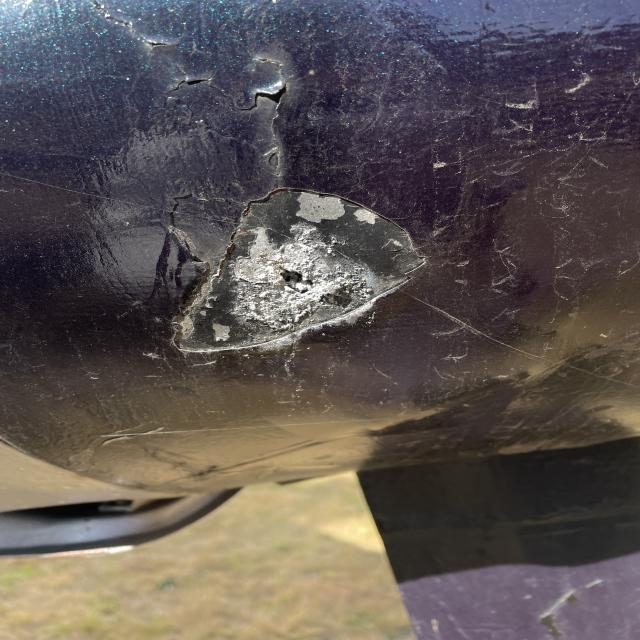crack: (156, 67, 302, 118), (68, 3, 195, 54)
dent: (174, 179, 436, 357)
